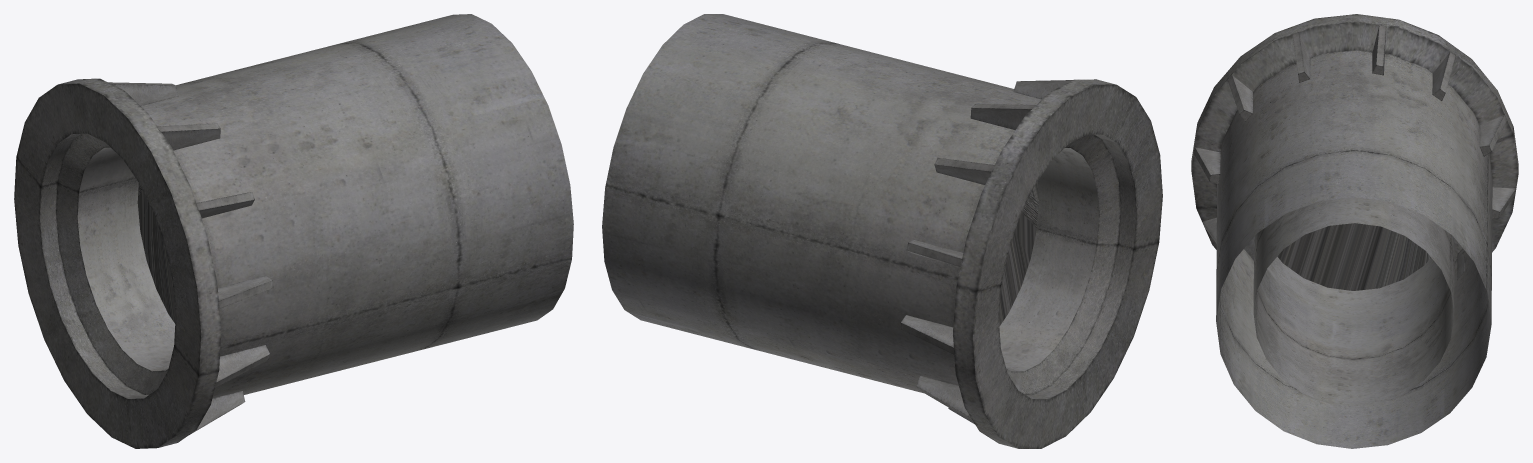
The model's file is SM_ICE_02_03.002.fbx.
3 renders of one model, left to right at view 1: azimuth 30°, elevation 25°; view 2: azimuth 150°, elevation 25°; view 3: azimuth 270°, elevation 25°, orthographic. The views are drawn at different scales.
Visible parts, largest first — view 1: SM_ICE_02_03.002, SM_ICE_02_03.003; view 2: SM_ICE_02_03.002, SM_ICE_02_03.003; view 3: SM_ICE_02_03.002, SM_ICE_02_03.003.
Part boxes in pixels (bbox=[...]): SM_ICE_02_03.002: bbox=[14, 14, 573, 448]; SM_ICE_02_03.003: bbox=[137, 182, 175, 323]; SM_ICE_02_03.002: bbox=[602, 14, 1162, 448]; SM_ICE_02_03.003: bbox=[999, 181, 1038, 326]; SM_ICE_02_03.002: bbox=[1191, 14, 1518, 448]; SM_ICE_02_03.003: bbox=[1277, 223, 1431, 290].
Bounding box in the file's own units: 368 × 307 × 307.
